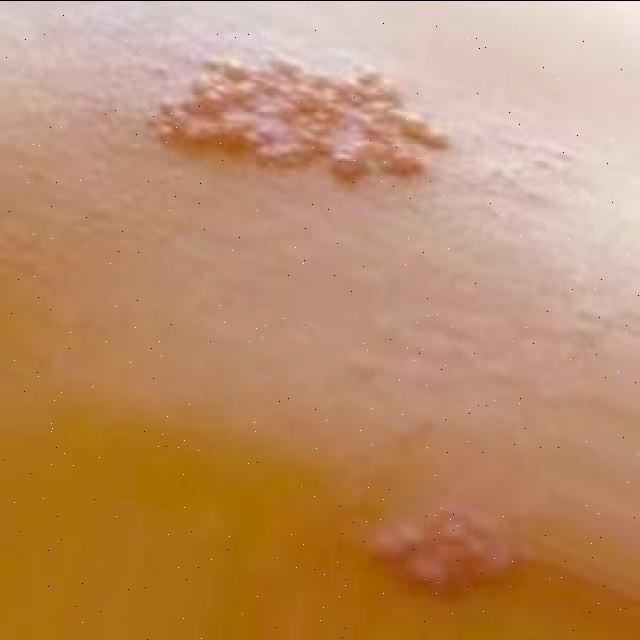Shingles: (148, 56, 454, 185), (360, 501, 534, 593)
